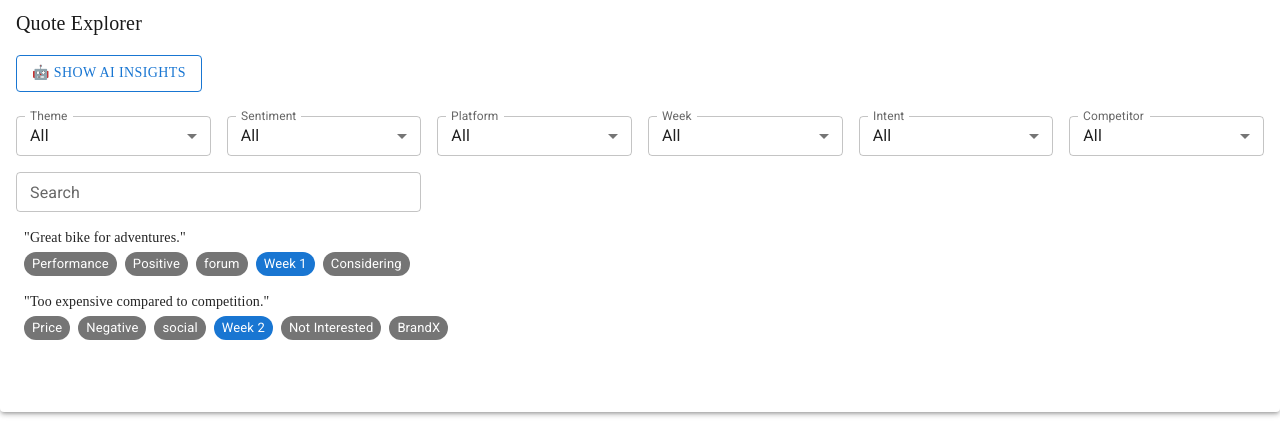
QuoteExplorer › filters quotes based on search input
Check: the text "\"Great bike for adventures.\"" is shown, box [24,230,186,244]
Check: the text "\"Too expensive compared to competition.\"" is shown, box [24,294,270,308]
Type "expensive" into the field labelled "Search" at (219, 192), box [16,172,421,212]
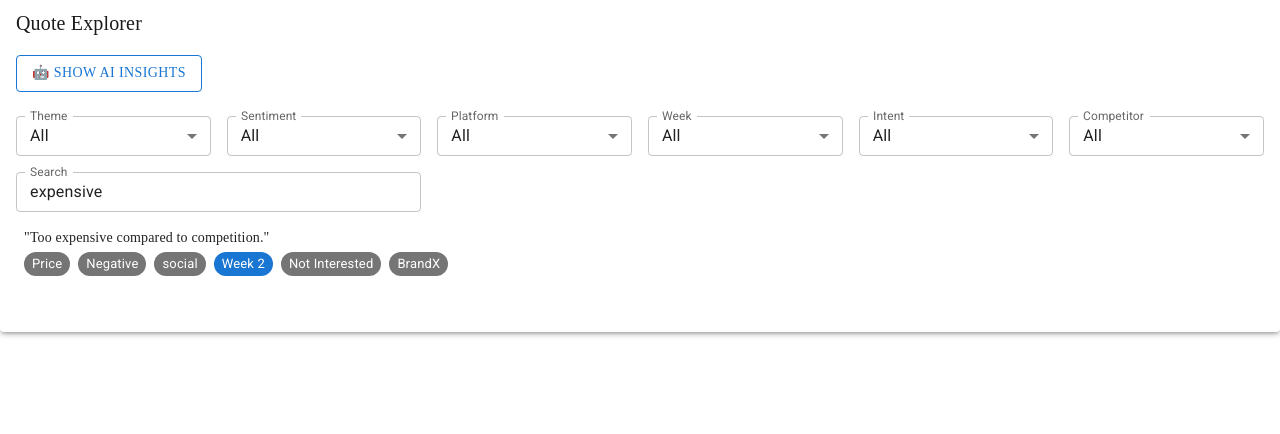
Check: the text "\"Too expensive compared to competition.\"" is shown, box [24,230,270,244]
Check: the text "Great bike" is gone
